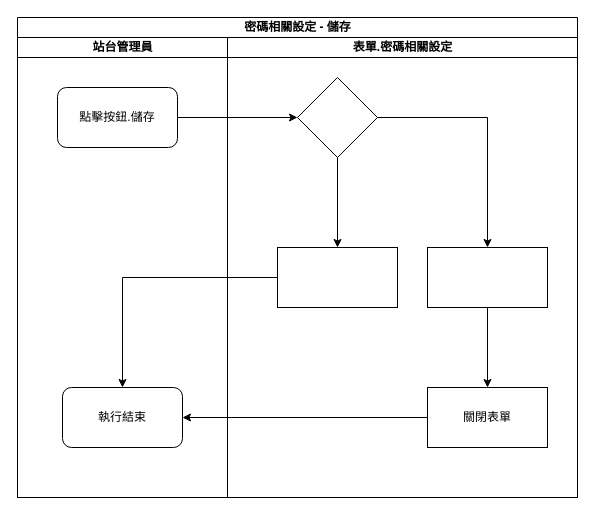
This 595x515 diagram has some shape labels left out. Here are the shapes that lost their labels. From the top down, the box of each, then its label:
(296, 76, 378, 158): 必要欄位 不為空
(276, 246, 398, 308): 顯示錯誤訊息
(426, 246, 548, 308): 儲存密碼相關設定
